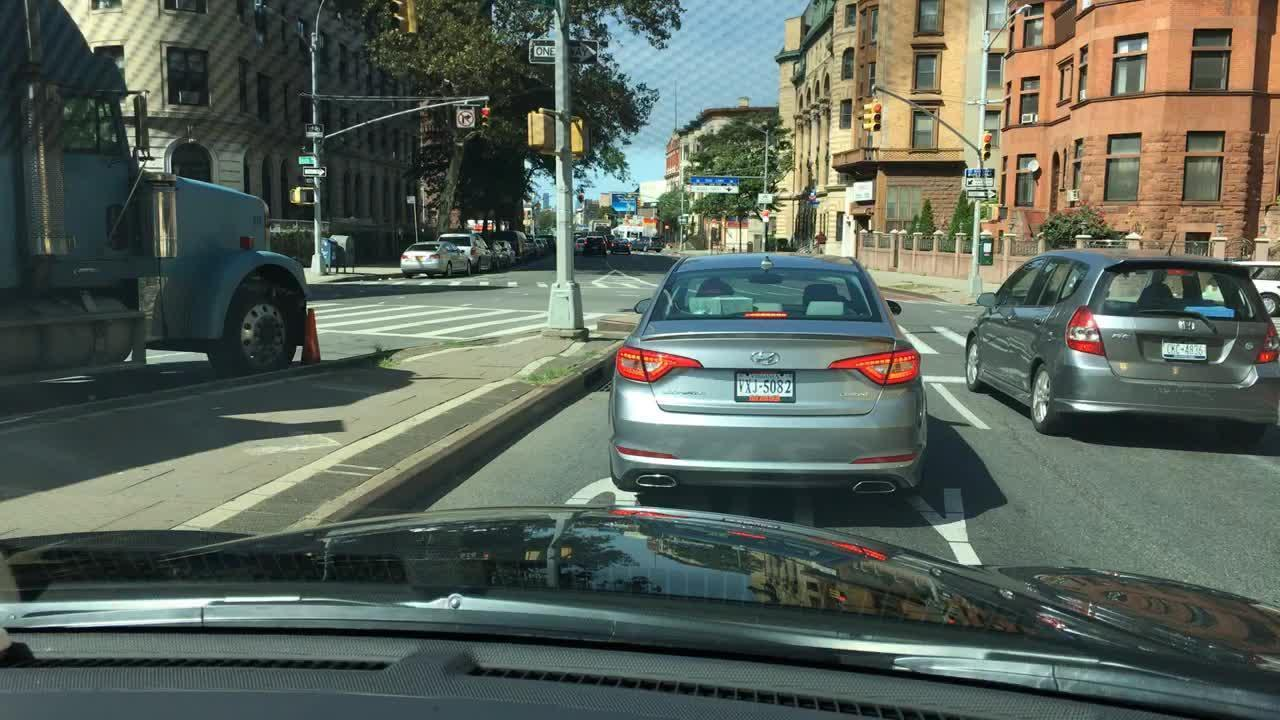Honda: (1177, 317, 1200, 334)
Hyundai: (743, 346, 790, 370)
